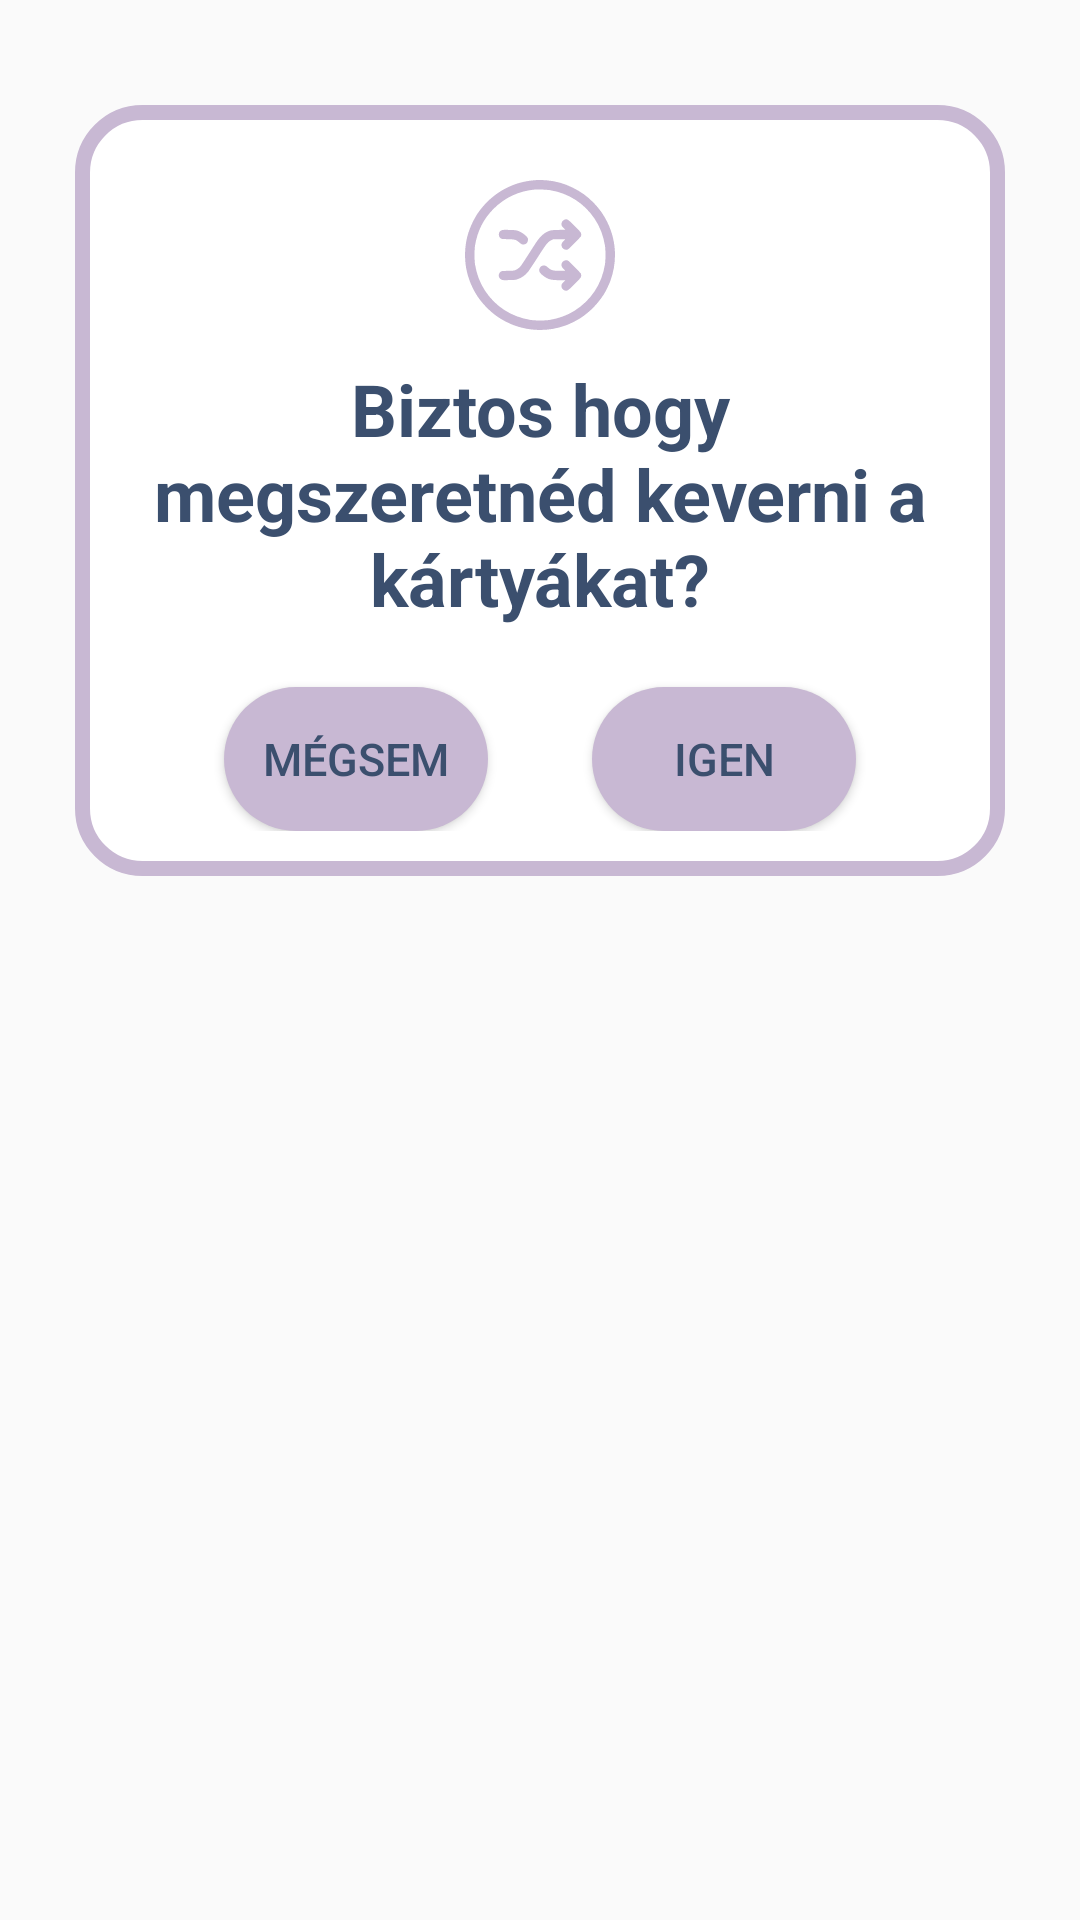

Point at icon controls on the screen. Image size 1080px×1920px, points as (x=x, y=y).
shuffle: (x=540, y=255)
